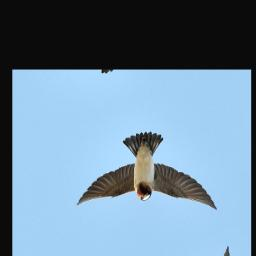Swallow: (63, 112, 219, 256)
